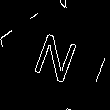N_S: (27, 29, 81, 91)
